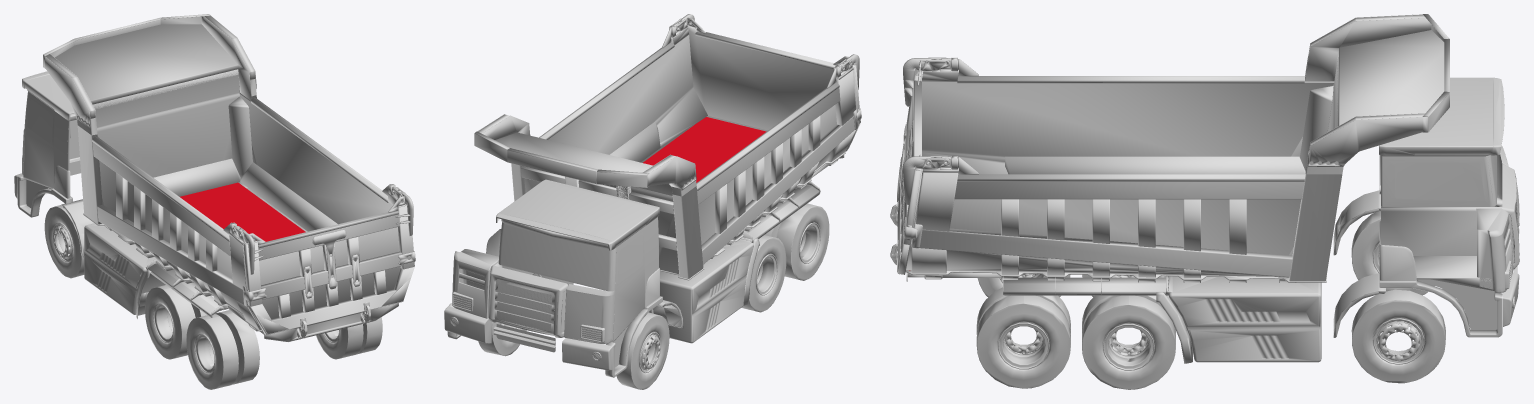
The model's file is SKT90E.dae.
3 renders of one model, left to right at view 1: azimuth 30°, elevation 25°; view 2: azimuth 150°, elevation 25°; view 3: azimuth 270°, elevation 25°, orthographic. The views are drawn at different scales.
Visible parts, largest first — view 1: TruckHopper, TruckCarPort, TruckTires, TruckBodyBlack, TruckBodyOrange, TruckHopperBottom, TruckWindow; view 2: TruckHopper, TruckBodyOrange, TruckBodyBlack, TruckTires, TruckCarPort, TruckWindow, TruckHopperBottom; view 3: TruckHopper, TruckTires, TruckBodyOrange, TruckBodyBlack, TruckCarPort, TruckWindow.
Boxes of the visible parts, <box> form: TruckHopper: <box>77,86,415,341</box>; TruckCarPort: <box>43,14,256,135</box>; TruckTires: <box>44,204,382,389</box>; TruckBodyBlack: <box>23,92,165,318</box>; TruckBodyOrange: <box>14,71,224,317</box>; TruckHopperBottom: <box>180,182,305,241</box>; TruckWindow: <box>24,91,53,144</box>; TruckHopper: <box>511,14,861,280</box>; TruckBodyOrange: <box>444,179,819,377</box>; TruckBodyBlack: <box>488,217,759,352</box>; TruckTires: <box>478,203,829,389</box>; TruckCarPort: <box>474,114,696,196</box>; TruckWindow: <box>499,222,643,291</box>; TruckHopperBottom: <box>643,117,766,182</box>; TruckHopper: <box>890,57,1342,294</box>; TruckTires: <box>976,211,1445,389</box>; TruckBodyOrange: <box>1003,77,1519,337</box>; TruckBodyBlack: <box>1156,164,1519,363</box>; TruckCarPort: <box>1305,14,1449,174</box>; TruckWindow: <box>1395,155,1496,205</box>.
Size of the model in its own units: 3.54 by 8.98 by 4.33.
